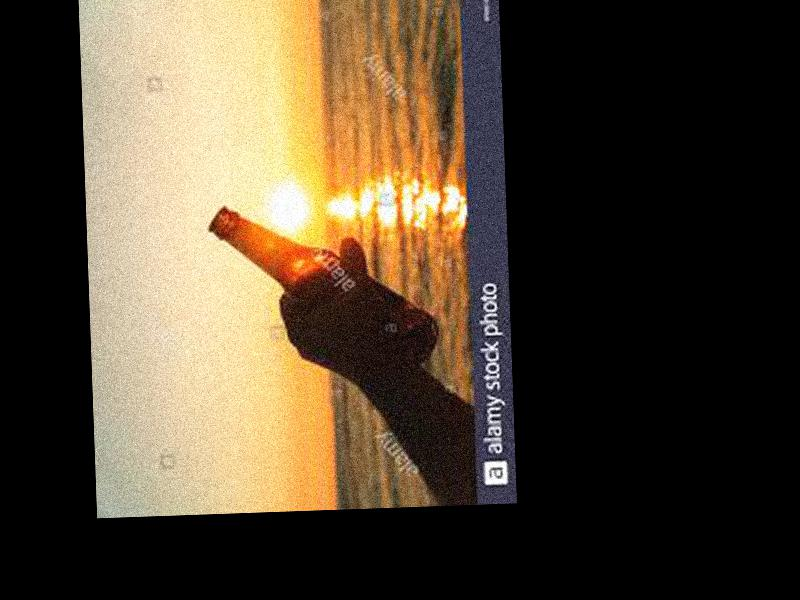Beer: (204, 200, 440, 377)
